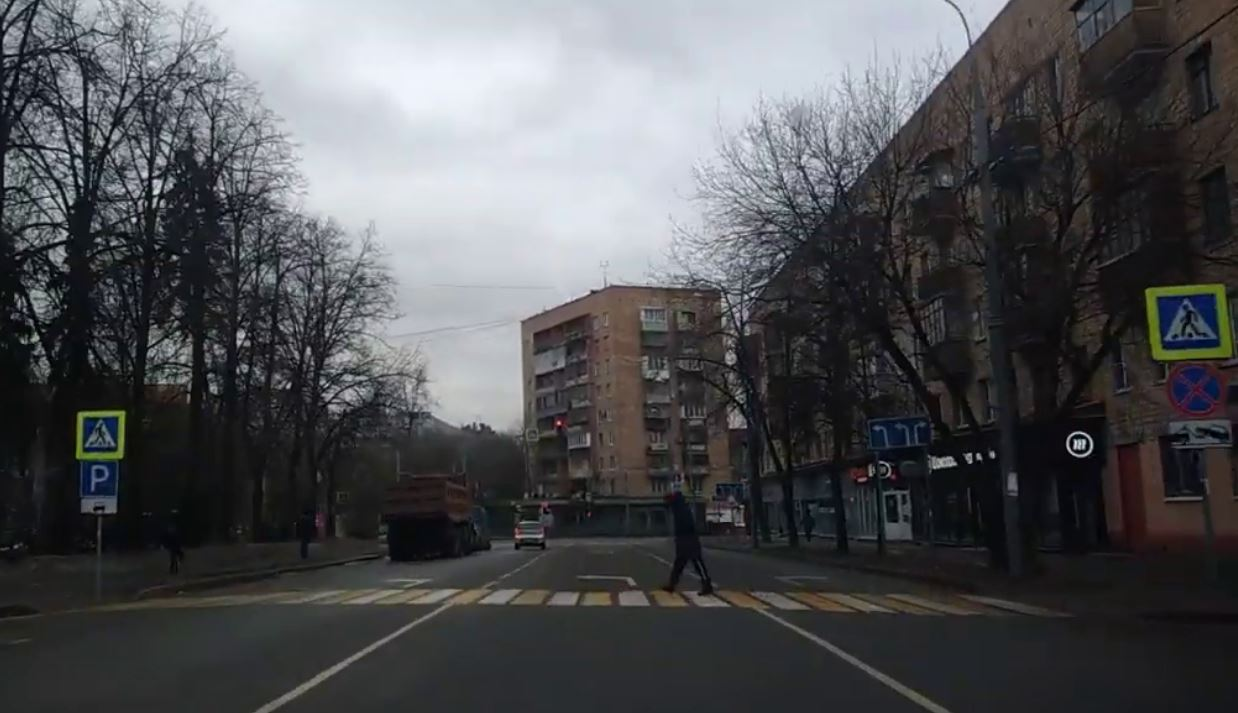Yaya Gecidi: (1159, 293, 1225, 344), (85, 419, 120, 455)
